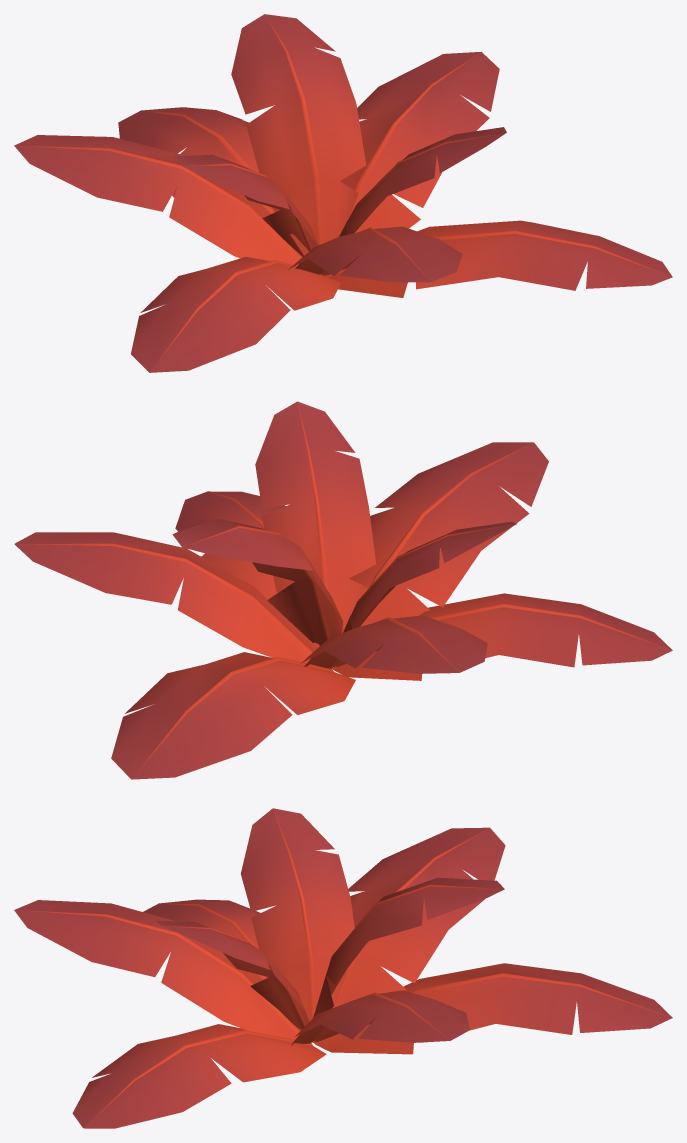
Rendered from plant_19.fbx.
3 renders of one model, top to bottom at view 1: azimuth 30°, elevation 25°; view 2: azimuth 150°, elevation 25°; view 3: azimuth 270°, elevation 25°, orthographic. The views are drawn at different scales.
Visible parts, largest first — view 1: plant_19; view 2: plant_19; view 3: plant_19.
Part boxes in pixels (left/top/right/bottom): plant_19: left=14, top=14, right=672, bottom=372; plant_19: left=14, top=401, right=672, bottom=779; plant_19: left=14, top=808, right=672, bottom=1128.
Size of the model in its own units: 3.89 by 1.36 by 4.65.
